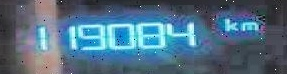0: (105, 21, 134, 48)
1: (33, 22, 47, 55), (65, 23, 76, 52)
4: (165, 21, 196, 46)
8: (134, 21, 163, 47)
9: (76, 22, 105, 49)
X: (220, 16, 238, 31), (238, 18, 258, 31)
